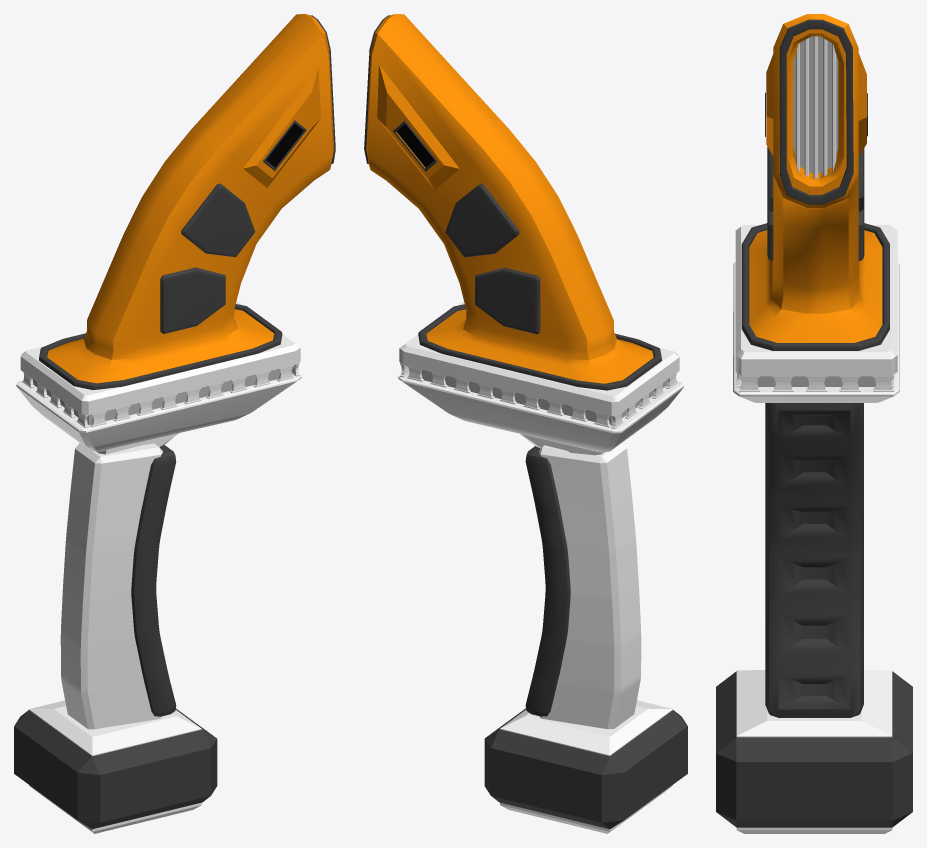
File: Vacuum.fbx
3 views of the same model, side by side, from view 1: azimuth 30°, elevation 25°; view 2: azimuth 150°, elevation 25°; view 3: azimuth 270°, elevation 25° (orthographic). The views are drawn at different scales.
Visible parts, largest first — view 1: Vacuum; view 2: Vacuum; view 3: Vacuum.
Part boxes in pixels (x1,y1,x2,y2): Vacuum: [14, 14, 335, 833]; Vacuum: [364, 14, 687, 833]; Vacuum: [716, 14, 912, 833].
Bounding box in the file's own units: 0.7506 × 1.91 × 0.375.
